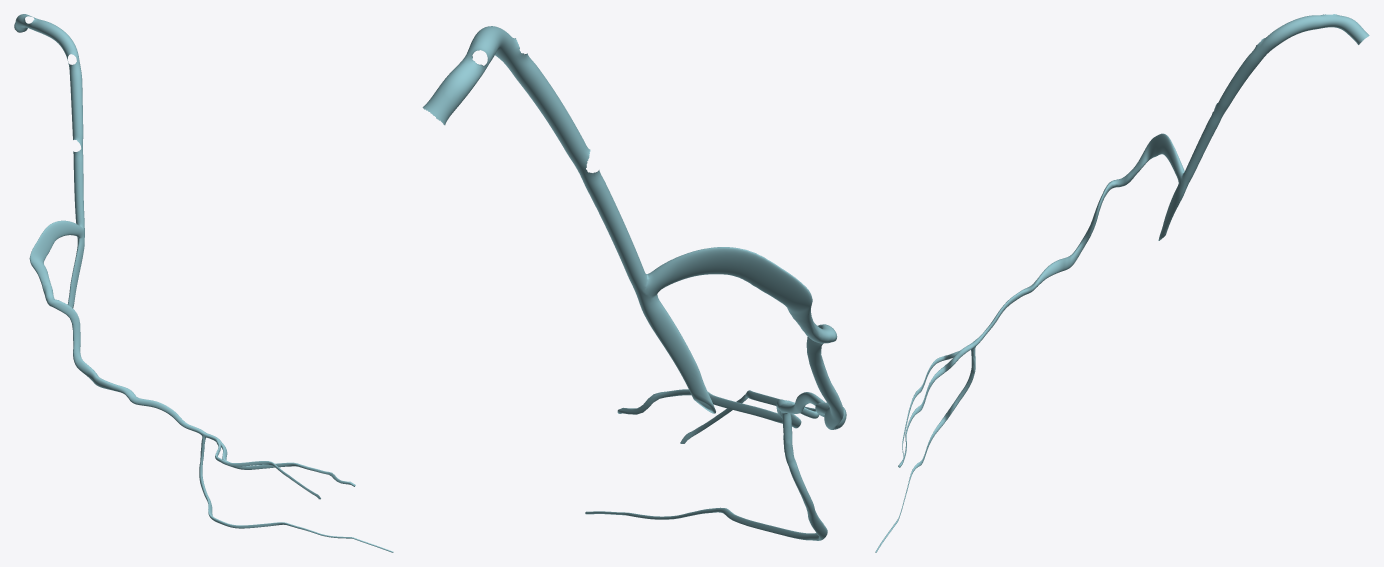
Rendered from left-central-v0.9.16.glb.
3 views of the same model, side by side, from view 1: azimuth 30°, elevation 25°; view 2: azimuth 150°, elevation 25°; view 3: azimuth 270°, elevation 25° (orthographic). The views are drawn at different scales.
Parts seen in each view (by area): view 1: Central left, MCA superior division left, Central cortical branch left, Central distal ramus left; view 2: MCA superior division left, Central left, Central cortical branch left, Central distal ramus left; view 3: MCA superior division left, Central left, Central cortical branch left.
Boxes of the visible parts, x1=… form: Central left: x1=29, y1=220, x2=355, y2=486; MCA superior division left: x1=14, y1=14, x2=84, y2=308; Central cortical branch left: x1=199, y1=436, x2=393, y2=552; Central distal ramus left: x1=215, y1=439, x2=320, y2=499; MCA superior division left: x1=422, y1=26, x2=715, y2=413; Central left: x1=617, y1=247, x2=846, y2=429; Central cortical branch left: x1=585, y1=413, x2=827, y2=540; Central distal ramus left: x1=680, y1=390, x2=819, y2=443; MCA superior division left: x1=1158, y1=14, x2=1369, y2=240; Central left: x1=898, y1=133, x2=1184, y2=467; Central cortical branch left: x1=875, y1=347, x2=975, y2=552.
Bounding box in the file's own units: 42.2 × 71.22 × 69.69.
